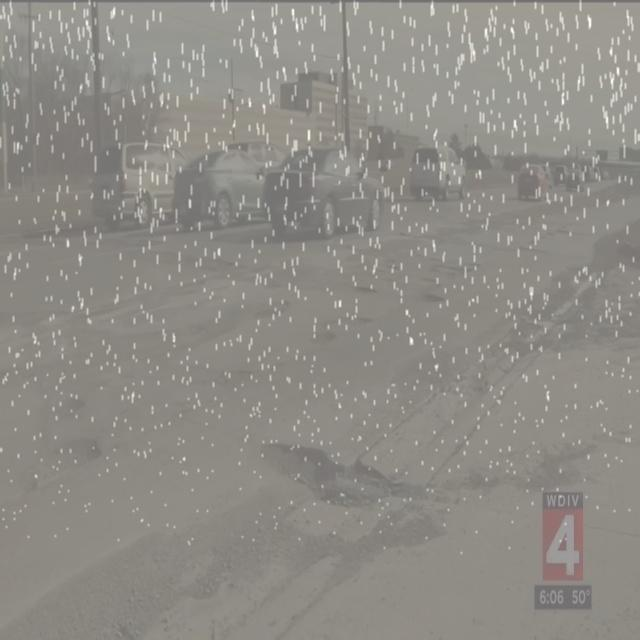Pothole: (0, 501, 442, 640), (235, 432, 468, 512), (508, 218, 634, 352), (165, 294, 279, 358), (284, 307, 370, 353), (406, 254, 476, 310)
